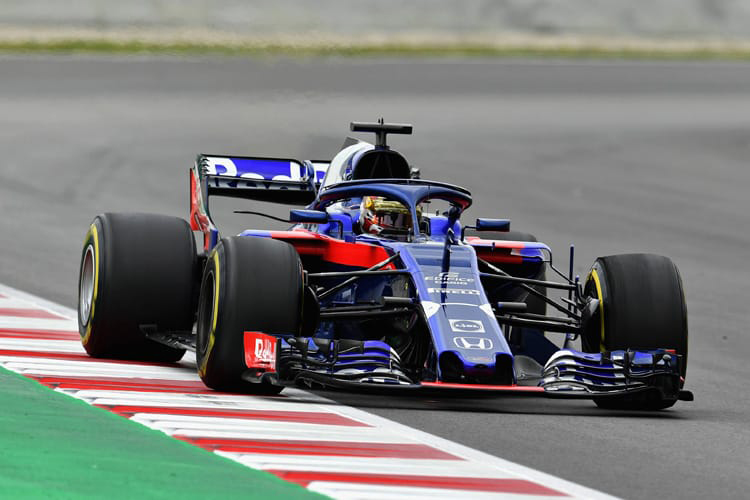F1 Car: (73, 114, 699, 415)
